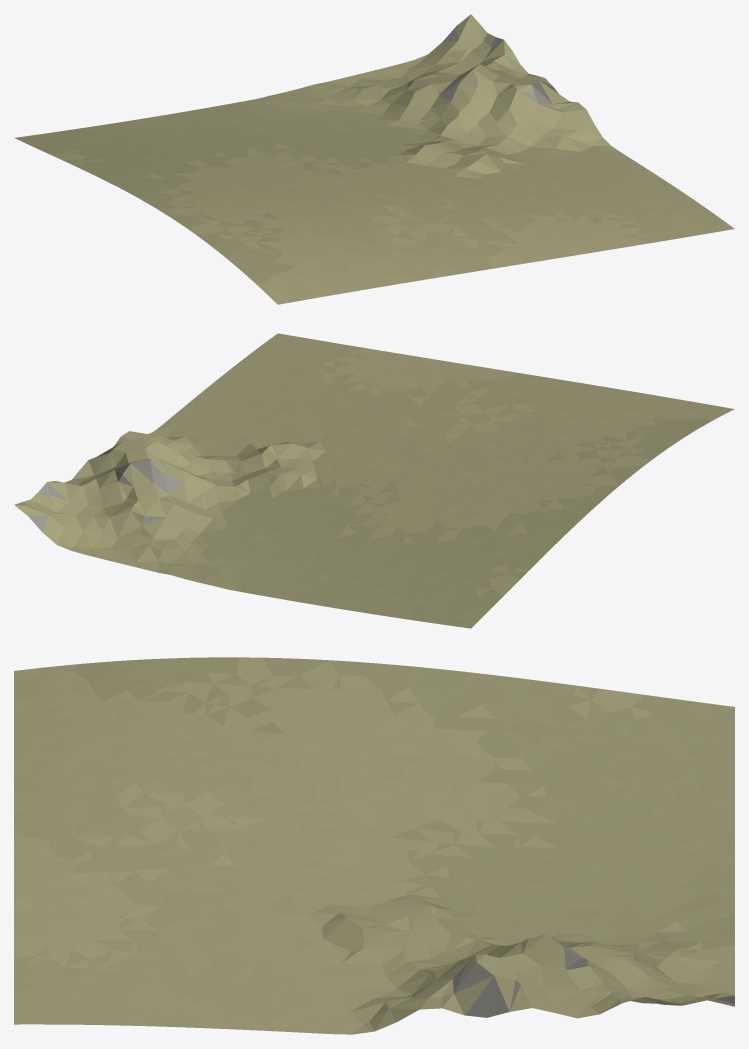
Rendered from Ground_-1_-10.glb.
3 views of the same model, one above another, from view 1: azimuth 30°, elevation 25°; view 2: azimuth 150°, elevation 25°; view 3: azimuth 270°, elevation 25° (orthographic). The views are drawn at different scales.
Visible parts, largest first — view 1: Ground_-1_-10; view 2: Ground_-1_-10; view 3: Ground_-1_-10.
Part boxes in pixels (x1=…): Ground_-1_-10: x1=15, y1=14, x2=734, y2=304; Ground_-1_-10: x1=14, y1=333, x2=734, y2=628; Ground_-1_-10: x1=14, y1=657, x2=734, y2=1034.
Bounding box in the file's own units: 768 × 91.07 × 768.
